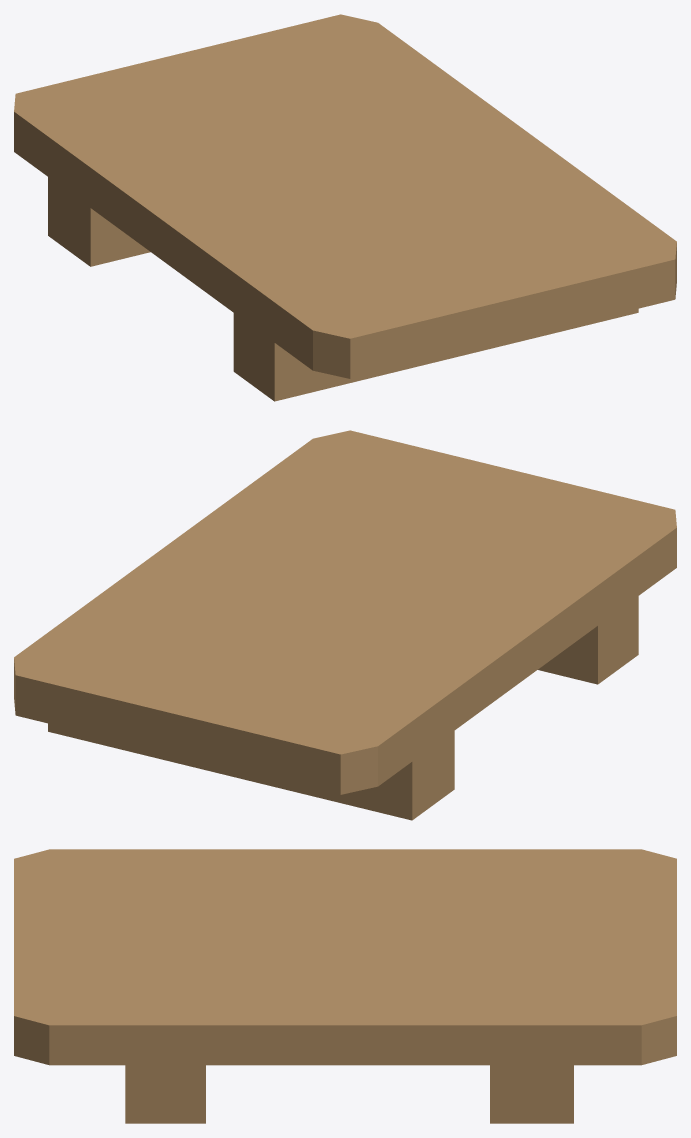
The model's file is sushiServingBoard.fbx.
3 views of the same model, one above another, from view 1: azimuth 30°, elevation 25°; view 2: azimuth 150°, elevation 25°; view 3: azimuth 270°, elevation 25° (orthographic).
Visible parts, largest first — view 1: sushiServingBoard; view 2: sushiServingBoard; view 3: sushiServingBoard.
Part boxes in pixels (left/top/right/bottom): sushiServingBoard: left=14, top=14, right=676, bottom=401; sushiServingBoard: left=14, top=430, right=676, bottom=820; sushiServingBoard: left=14, top=849, right=676, bottom=1123.
Size of the model in its own units: 25.49 by 6.64 by 40.57.
Materials: 1 (1 with a texture image).
